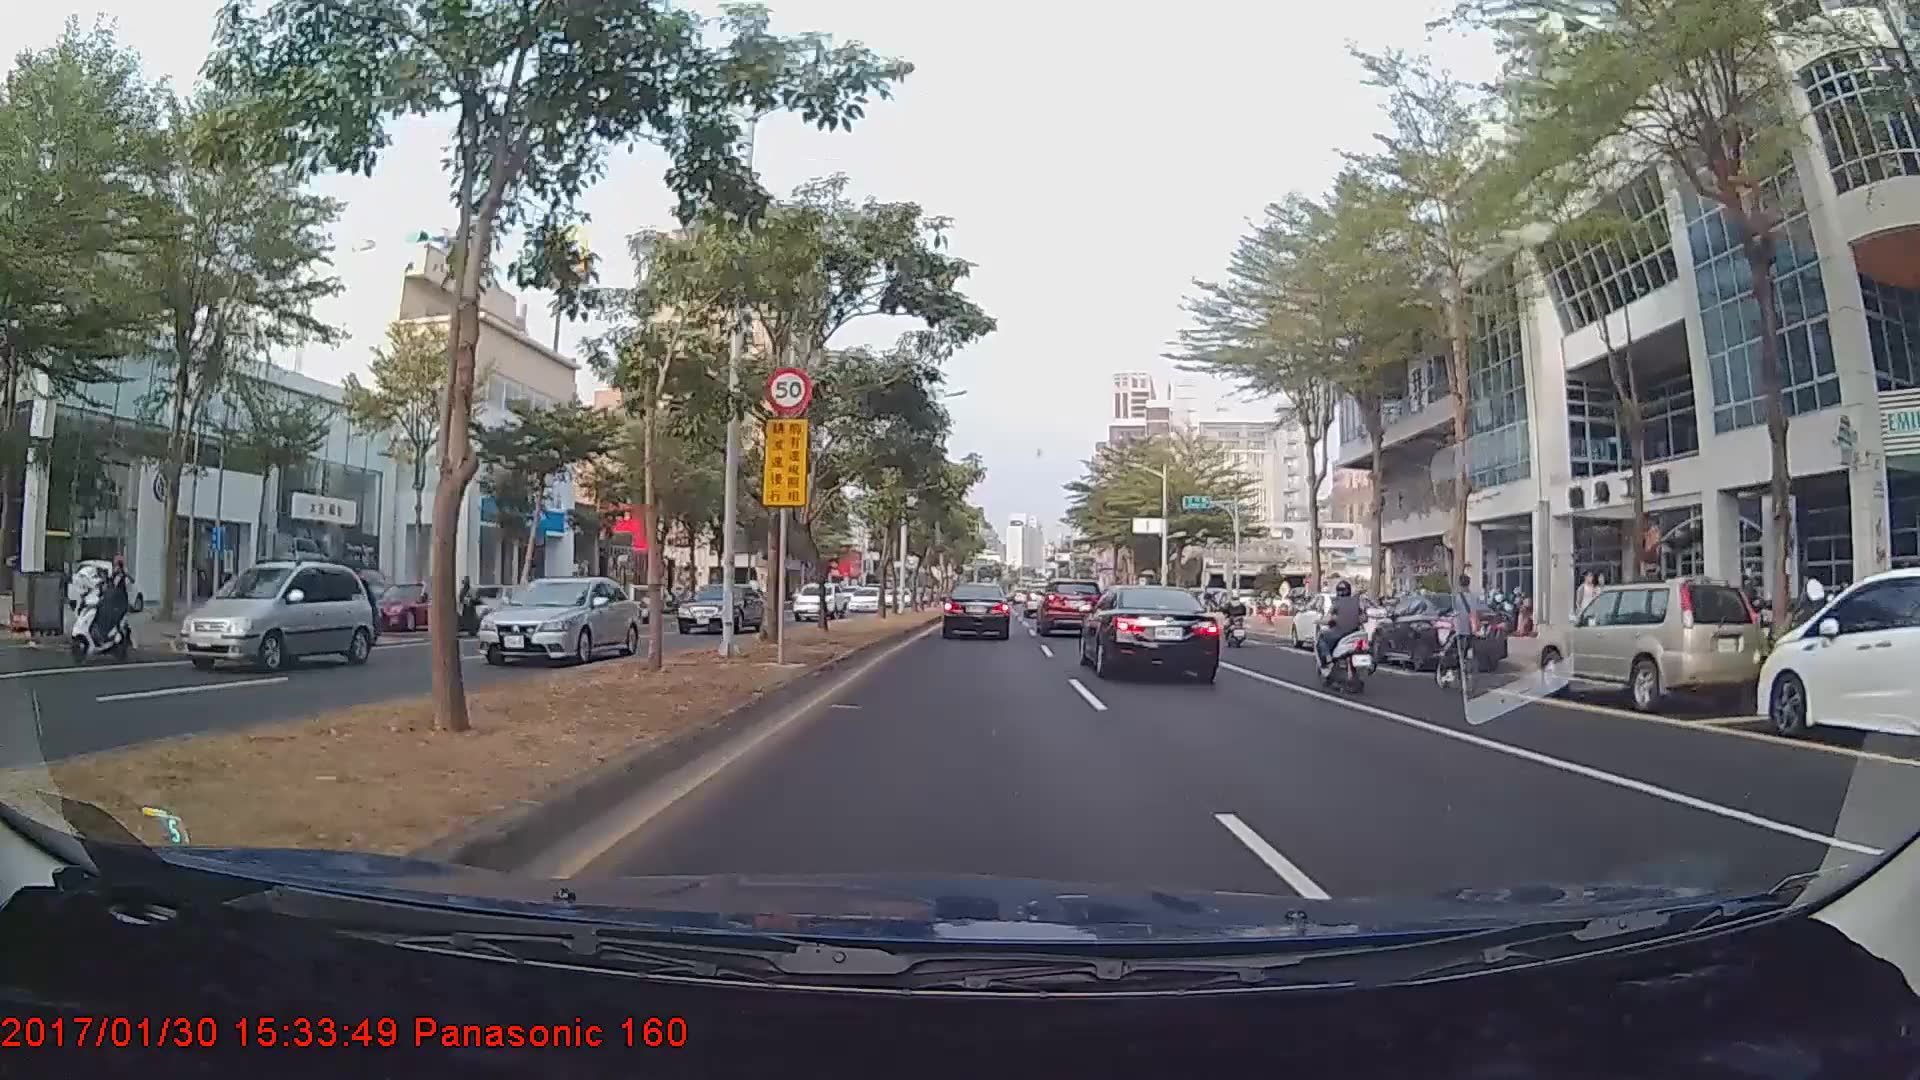rider: (1305, 579, 1384, 699), (64, 555, 143, 666), (1429, 575, 1495, 698), (1341, 586, 1394, 677), (1218, 593, 1254, 650)
vehicle: (1755, 568, 1920, 755), (1558, 575, 1758, 707), (177, 558, 374, 675), (475, 577, 642, 667), (1080, 579, 1222, 683), (1368, 593, 1508, 672), (1286, 591, 1388, 649), (674, 579, 765, 634), (369, 579, 457, 631), (942, 580, 1012, 640), (1037, 578, 1099, 636), (790, 581, 845, 623), (848, 583, 885, 613)
